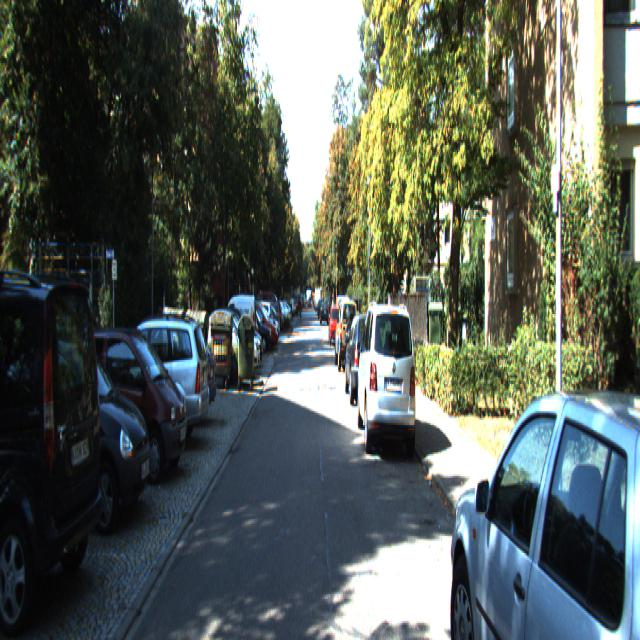Car: (450, 345, 640, 638), (0, 258, 107, 633), (0, 324, 155, 543), (66, 322, 190, 489), (82, 310, 210, 458), (356, 300, 417, 463), (345, 312, 385, 404), (216, 290, 257, 365), (236, 312, 273, 359), (336, 303, 360, 375), (328, 306, 343, 348)
